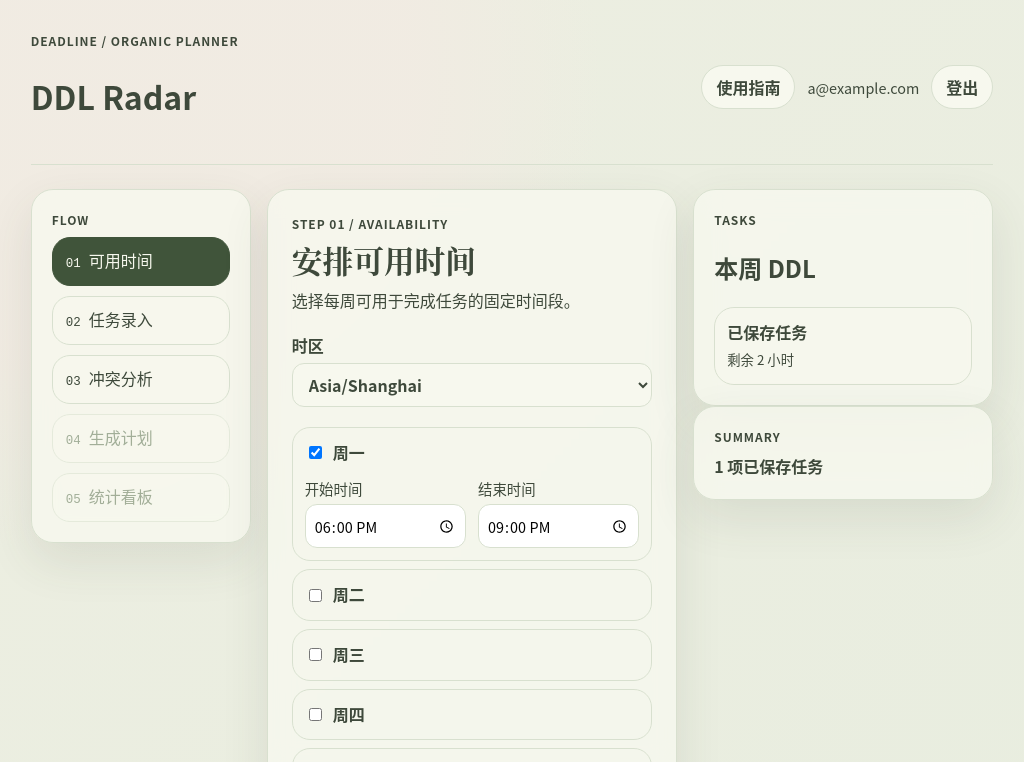
Test: input flow navigation › shows a plan-generation failure without leaving an unhandled rejection
The image size is (1024, 762).
Click the button "03冲突分析". click: (141, 380)
box: [52,355,230,404]
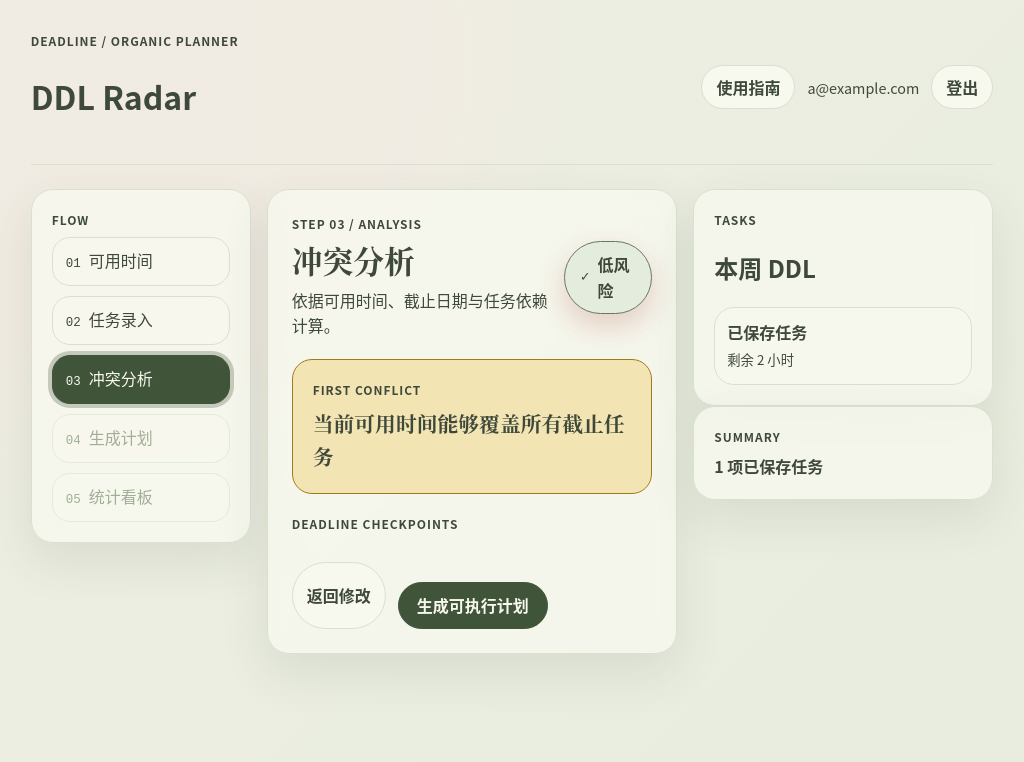
Click the button "生成可执行计划". click: (473, 605)
box: [398,582,548,629]
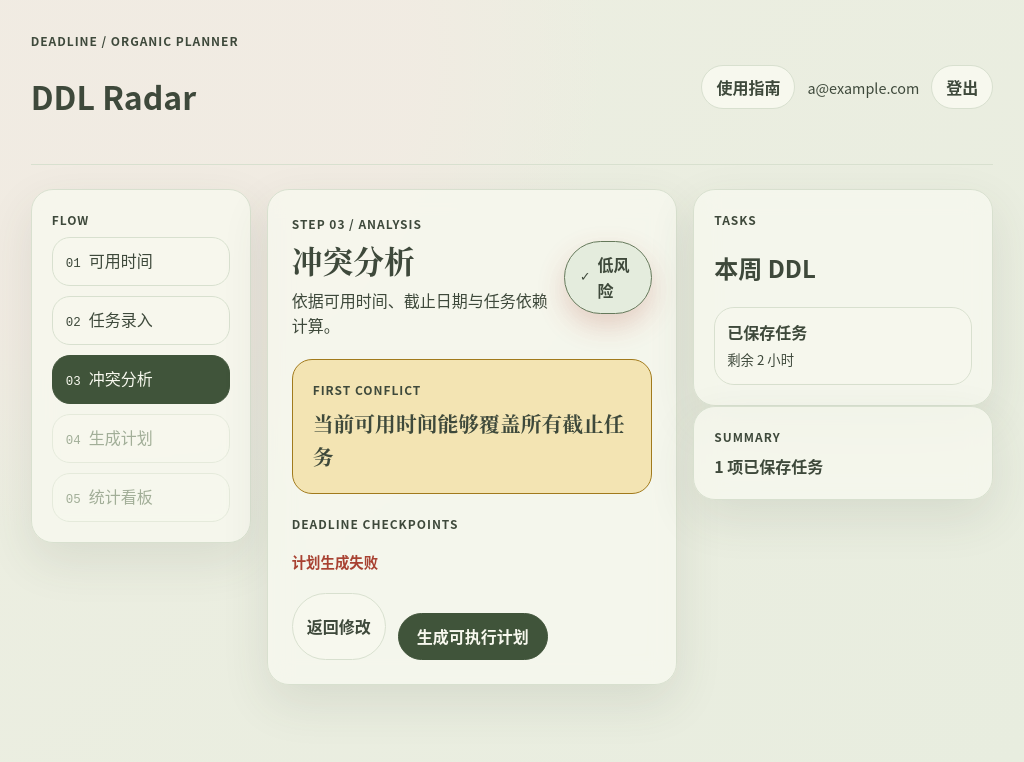
Expected: the message "计划生成失败" is shown, [292,551,378,572]
